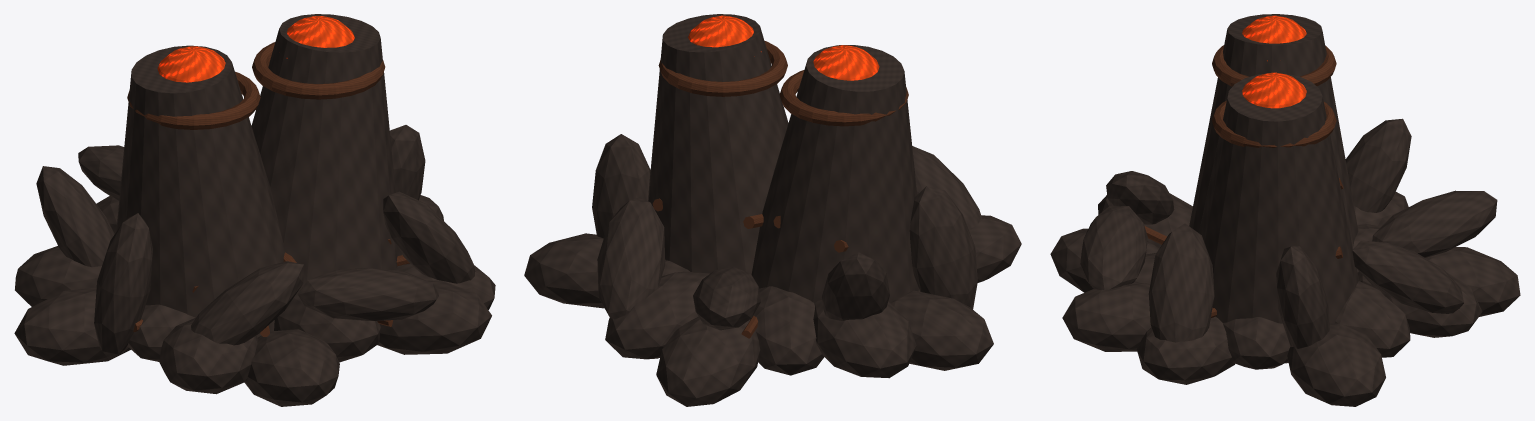
File: underworld-geothermal-vent-split.glb
3 views of the same model, side by side, from view 1: azimuth 30°, elevation 25°; view 2: azimuth 150°, elevation 25°; view 3: azimuth 270°, elevation 25° (orthographic). The views are drawn at different scales.
Parts seen in each view (by area): view 1: split-stack--1, split-stack-1, split-shard-4, split-shard-6, slag-foot-9, split-shard-5, slag-foot-6, slag-foot-11, split-shard-7, split-shard-3, slag-foot-8, slag-foot-10 (+10 smaller); view 2: split-stack--1, split-stack-1, slag-foot-3, split-shard-4, split-shard-1, slag-foot-5, slag-foot-6, slag-foot-2, slag-foot-4, slag-foot-0, split-shard-0, split-shard-3 (+7 smaller); view 3: split-stack-1, split-stack--1, split-shard-7, slag-foot-0, split-shard-2, split-shard-1, slag-foot-11, split-shard-6, split-shard-3, split-shard-0, slag-foot-12, slag-foot-3 (+11 smaller).
Part boxes in pixels (x1=…): split-stack--1: x1=116, y1=45, x2=284, y2=337; split-stack-1: x1=251, y1=14, x2=401, y2=292; split-shard-4: x1=94, y1=213, x2=152, y2=359; split-shard-6: x1=298, y1=268, x2=438, y2=320; slag-foot-9: x1=244, y1=329, x2=339, y2=406; split-shard-5: x1=191, y1=261, x2=303, y2=345; slag-foot-6: x1=14, y1=287, x2=130, y2=365; slag-foot-11: x1=377, y1=280, x2=491, y2=354; split-shard-7: x1=383, y1=191, x2=475, y2=283; split-shard-3: x1=36, y1=166, x2=114, y2=267; slag-foot-8: x1=159, y1=317, x2=258, y2=394; slag-foot-10: x1=274, y1=292, x2=380, y2=362; split-stack--1: x1=751, y1=45, x2=918, y2=302; split-stack-1: x1=648, y1=14, x2=788, y2=274; slag-foot-3: x1=656, y1=316, x2=760, y2=406; split-shard-4: x1=909, y1=186, x2=977, y2=309; split-shard-1: x1=597, y1=197, x2=665, y2=319; slag-foot-5: x1=813, y1=299, x2=916, y2=378; slag-foot-6: x1=890, y1=290, x2=993, y2=370; slag-foot-2: x1=605, y1=271, x2=709, y2=359; slag-foot-4: x1=750, y1=286, x2=824, y2=375; slag-foot-0: x1=524, y1=233, x2=604, y2=308; split-shard-0: x1=592, y1=134, x2=650, y2=238; split-shard-3: x1=822, y1=252, x2=889, y2=320; split-stack-1: x1=1199, y1=73, x2=1358, y2=363; split-stack--1: x1=1189, y1=14, x2=1358, y2=246; split-shard-7: x1=1148, y1=223, x2=1214, y2=342; slag-foot-0: x1=1287, y1=323, x2=1385, y2=406; split-shard-2: x1=1372, y1=190, x2=1497, y2=257; split-shard-1: x1=1352, y1=240, x2=1463, y2=313; slag-foot-11: x1=1062, y1=283, x2=1151, y2=351; split-shard-6: x1=1080, y1=206, x2=1147, y2=289; split-shard-3: x1=1345, y1=118, x2=1411, y2=212; split-shard-0: x1=1276, y1=246, x2=1329, y2=348; slag-foot-12: x1=1136, y1=316, x2=1234, y2=384; slag-foot-3: x1=1425, y1=247, x2=1520, y2=316.
Size of the model in its own units: 3.45 by 2.16 by 3.35.
3 materials, 3 textured.
